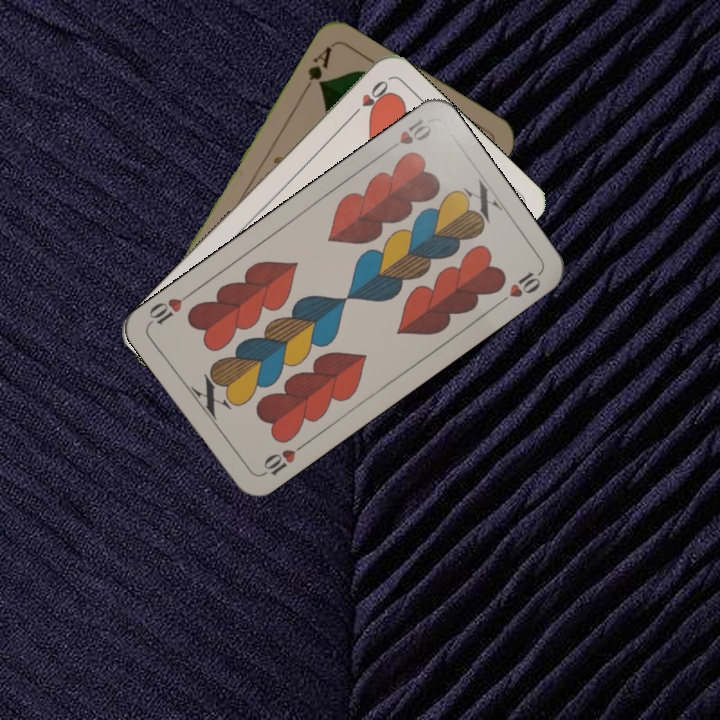GA: (299, 42, 334, 96)
H10: (381, 114, 435, 156), (256, 439, 308, 479)
HO: (345, 76, 391, 122)
